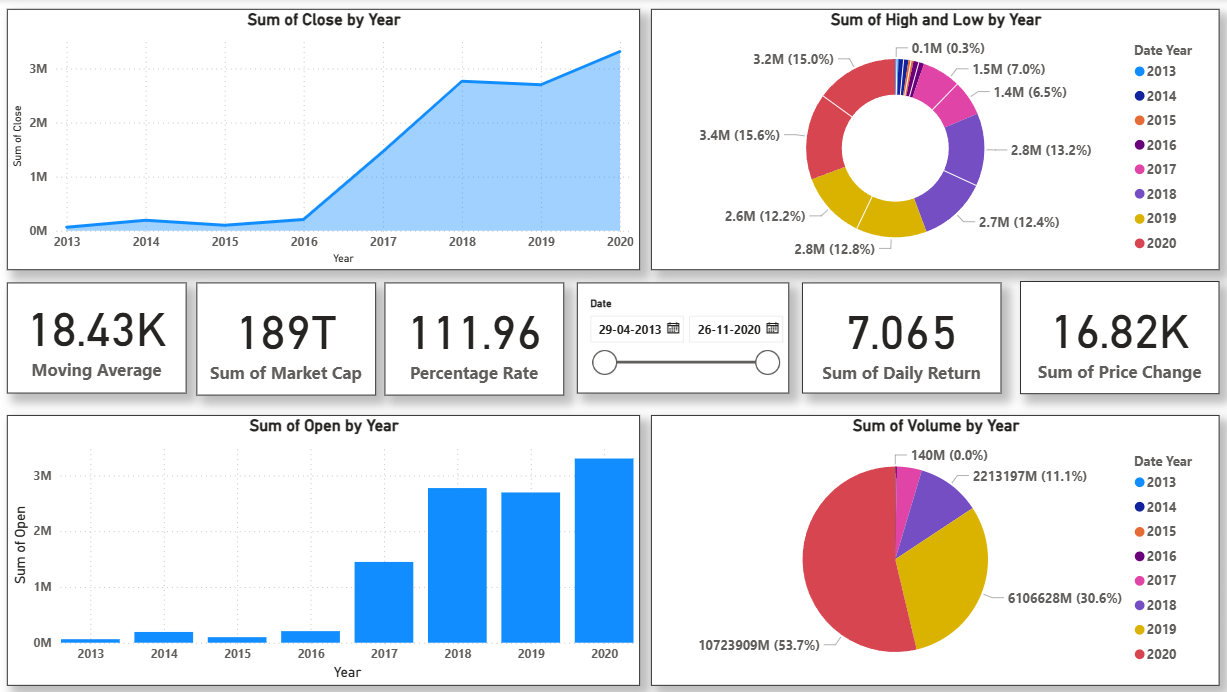

The dashboard page shown, as its layout file describes it:
{"tool":"powerbi","page":{"name":"Page 1","canvas":[1280,720],"ordinal":0},"visuals":[{"type":"areaChart","fields":{"Category":["bitcoin_price_data.Date.Variation.Date Hierarchy.Year","bitcoin_price_data.Date.Variation.Date Hierarchy.Quarter","bitcoin_price_data.Date.Variation.Date Hierarchy.Month","bitcoin_price_data.Date.Variation.Date Hierarchy.Day"],"Y":["Sum(bitcoin_price_data.Close)"]},"box":[10.3,10.3,653.1,269.2],"z":0},{"type":"clusteredColumnChart","fields":{"Category":["bitcoin_price_data.Date.Variation.Date Hierarchy.Year","bitcoin_price_data.Date.Variation.Date Hierarchy.Quarter","bitcoin_price_data.Date.Variation.Date Hierarchy.Month","bitcoin_price_data.Date.Variation.Date Hierarchy.Day"],"Y":["Sum(bitcoin_price_data.Open)"]},"box":[10.3,429.5,653.1,279.5],"z":1000},{"type":"donutChart","title":"Sum of High and Low by Year","fields":{"Y":["Sum(bitcoin_price_data.High)","Sum(bitcoin_price_data.Low)"],"Category":["bitcoin_price_data.Date.Variation.Date Hierarchy.Year","bitcoin_price_data.Date.Variation.Date Hierarchy.Quarter","bitcoin_price_data.Date.Variation.Date Hierarchy.Month","bitcoin_price_data.Date.Variation.Date Hierarchy.Day"]},"box":[675.1,10.3,586.9,269.2],"z":2000},{"type":"card","fields":{"Values":["bitcoin_price_data.Moving Average"]},"box":[10.3,292.7,185.3,114.7],"z":3000},{"type":"card","fields":{"Values":["Sum(bitcoin_price_data.Market Cap)"]},"box":[205.9,292.7,185.3,116.2],"z":4000},{"type":"card","fields":{"Values":["Sum(bitcoin_price_data.Percentage Rate)"]},"box":[400.1,292.7,185.3,116.2],"z":5000},{"type":"slicer","fields":{"Values":["bitcoin_price_data.Date"]},"box":[598.6,292.7,219.2,114.7],"z":6000},{"type":"card","fields":{"Values":["Sum(bitcoin_price_data.Daily Return)"]},"box":[831,292.7,205.9,114.7],"z":7000},{"type":"card","fields":{"Values":["Sum(bitcoin_price_data.Price Change)"]},"box":[1056.1,291.2,205.9,116.2],"z":8000},{"type":"pieChart","fields":{"Category":["bitcoin_price_data.Date.Variation.Date Hierarchy.Year","bitcoin_price_data.Date.Variation.Date Hierarchy.Quarter","bitcoin_price_data.Date.Variation.Date Hierarchy.Month","bitcoin_price_data.Date.Variation.Date Hierarchy.Day"],"Y":["Sum(bitcoin_price_data.Volume)"]},"box":[675.1,429.5,586.9,279.5],"z":9000}]}

Visuals, with their boxes in screenshot pixels (x1, y1, x2, y2), scaled from the page's 1280x720 canvas onto the 1227x692 screenshot:
areaChart - bitcoin_price_data.Date.Variation.Date Hierarchy.Year x bitcoin_price_data.Date.Variation.Date Hierarchy.Quarter: [10, 10, 636, 269]
clusteredColumnChart - bitcoin_price_data.Date.Variation.Date Hierarchy.Year x bitcoin_price_data.Date.Variation.Date Hierarchy.Quarter: [10, 413, 636, 681]
"Sum of High and Low by Year" donutChart: [647, 10, 1210, 269]
card - bitcoin_price_data.Moving Average: [10, 281, 188, 392]
card - Sum(bitcoin_price_data.Market Cap): [197, 281, 375, 393]
card - Sum(bitcoin_price_data.Percentage Rate): [384, 281, 561, 393]
slicer - bitcoin_price_data.Date: [574, 281, 784, 392]
card - Sum(bitcoin_price_data.Daily Return): [797, 281, 994, 392]
card - Sum(bitcoin_price_data.Price Change): [1012, 280, 1210, 392]
pieChart - bitcoin_price_data.Date.Variation.Date Hierarchy.Year x bitcoin_price_data.Date.Variation.Date Hierarchy.Quarter: [647, 413, 1210, 681]
